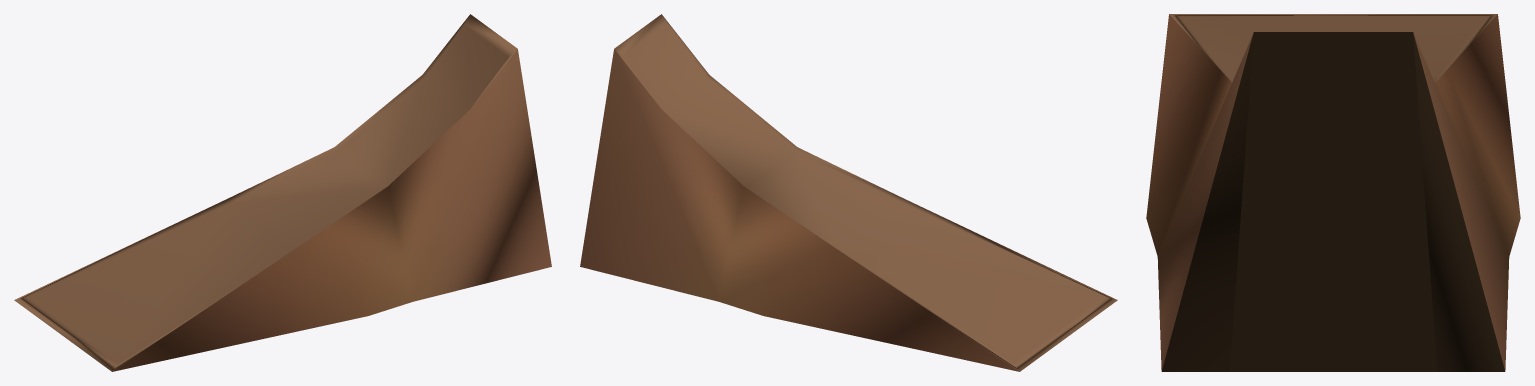
File: DirtBikeTrackJumpNarrow.glb
3 renders of one model, left to right at view 1: azimuth 30°, elevation 25°; view 2: azimuth 150°, elevation 25°; view 3: azimuth 270°, elevation 25°, orthographic. The views are drawn at different scales.
Parts seen in each view (by area): view 1: DirtBikeTrackJumpNarrow; view 2: DirtBikeTrackJumpNarrow; view 3: DirtBikeTrackJumpNarrow.
Boxes of the visible parts, x1,y1,x2,y2 form: DirtBikeTrackJumpNarrow: (14, 14, 551, 371); DirtBikeTrackJumpNarrow: (580, 14, 1117, 371); DirtBikeTrackJumpNarrow: (1146, 14, 1520, 371).
Size of the model in its own units: 7.5 by 3.27 by 3.32.
Materials: 1 (1 with a texture image).
